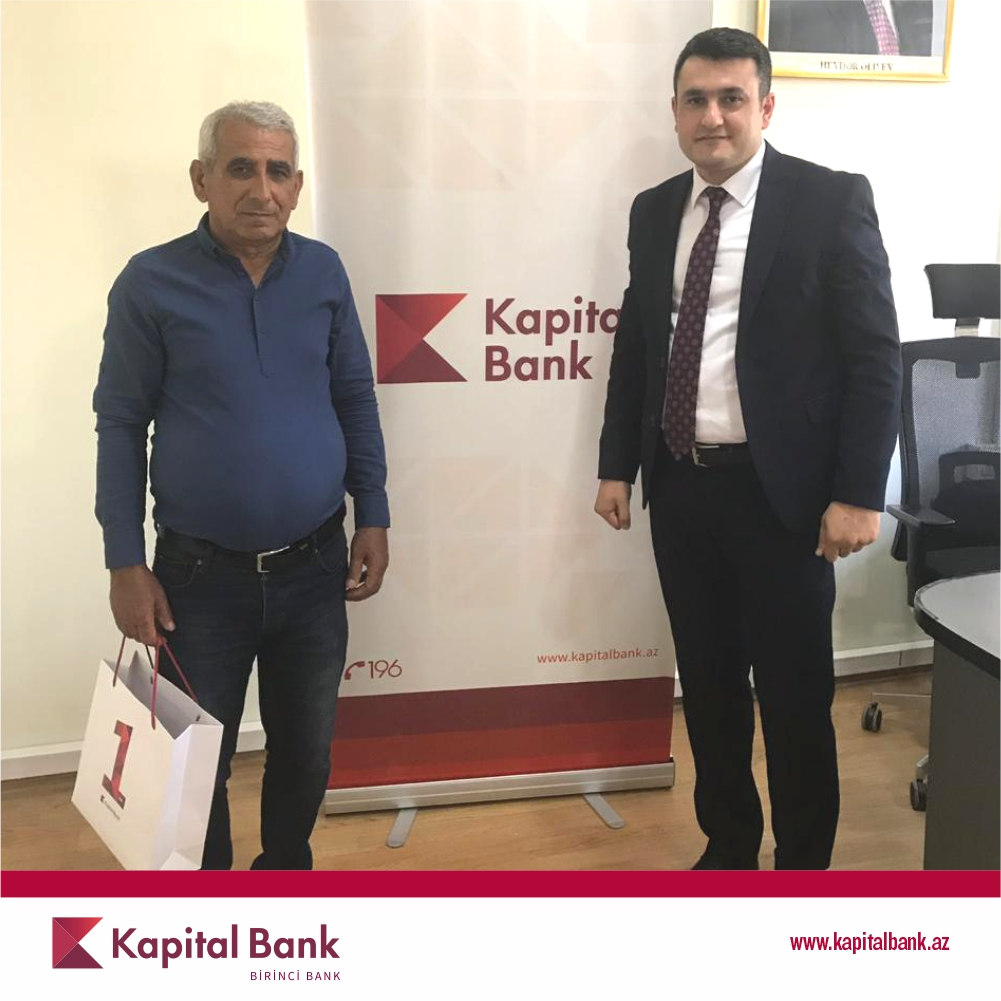Kapital Bank: (372, 290, 468, 384), (50, 914, 105, 969)
